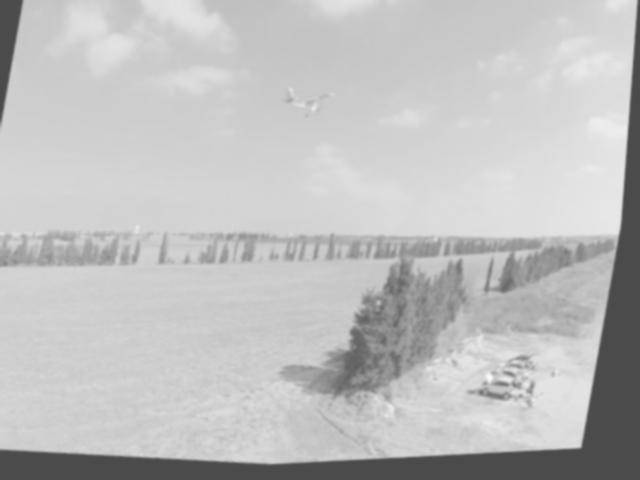hedef: (269, 81, 348, 135)
